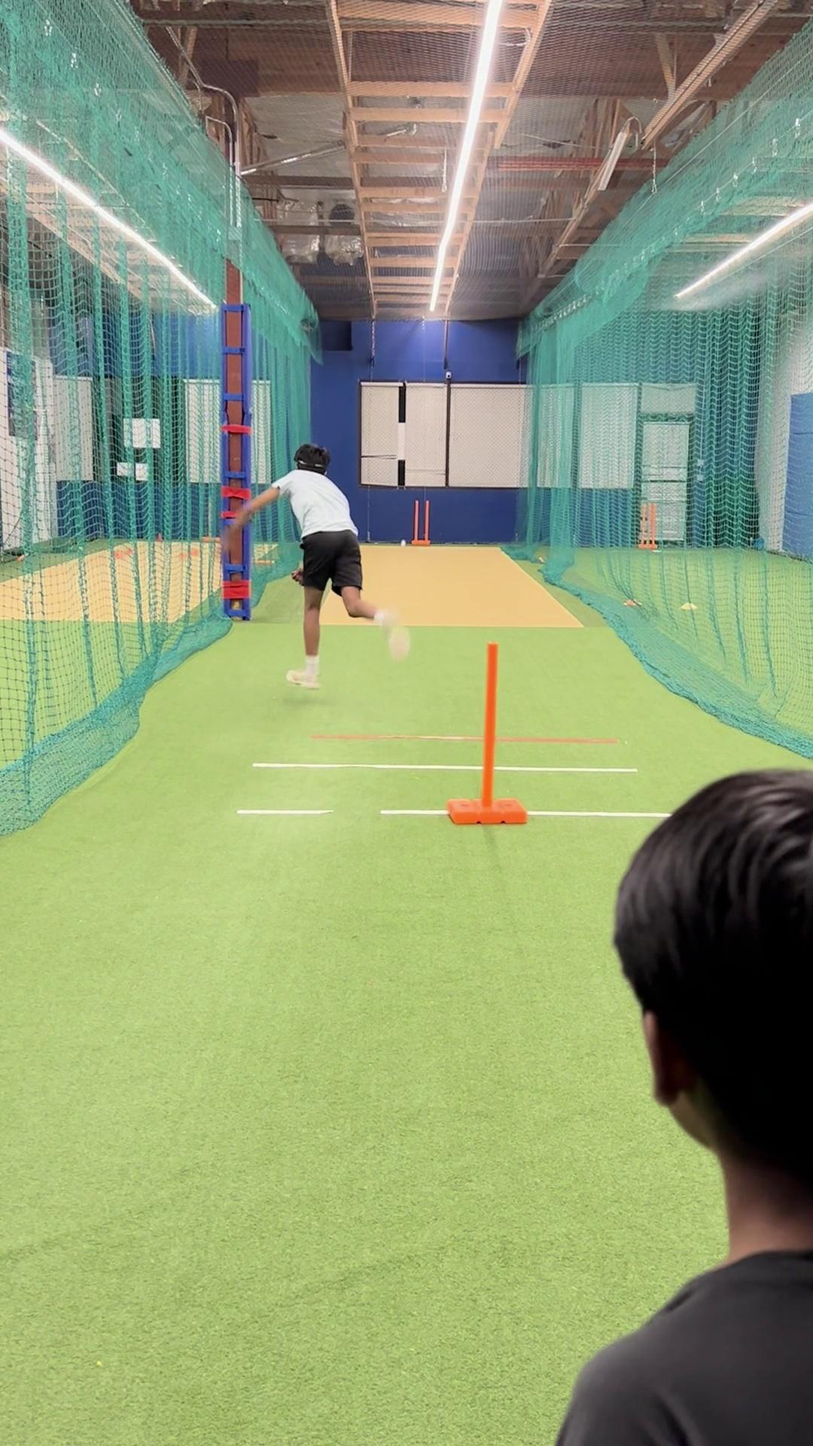ball: (396, 535, 410, 550)
